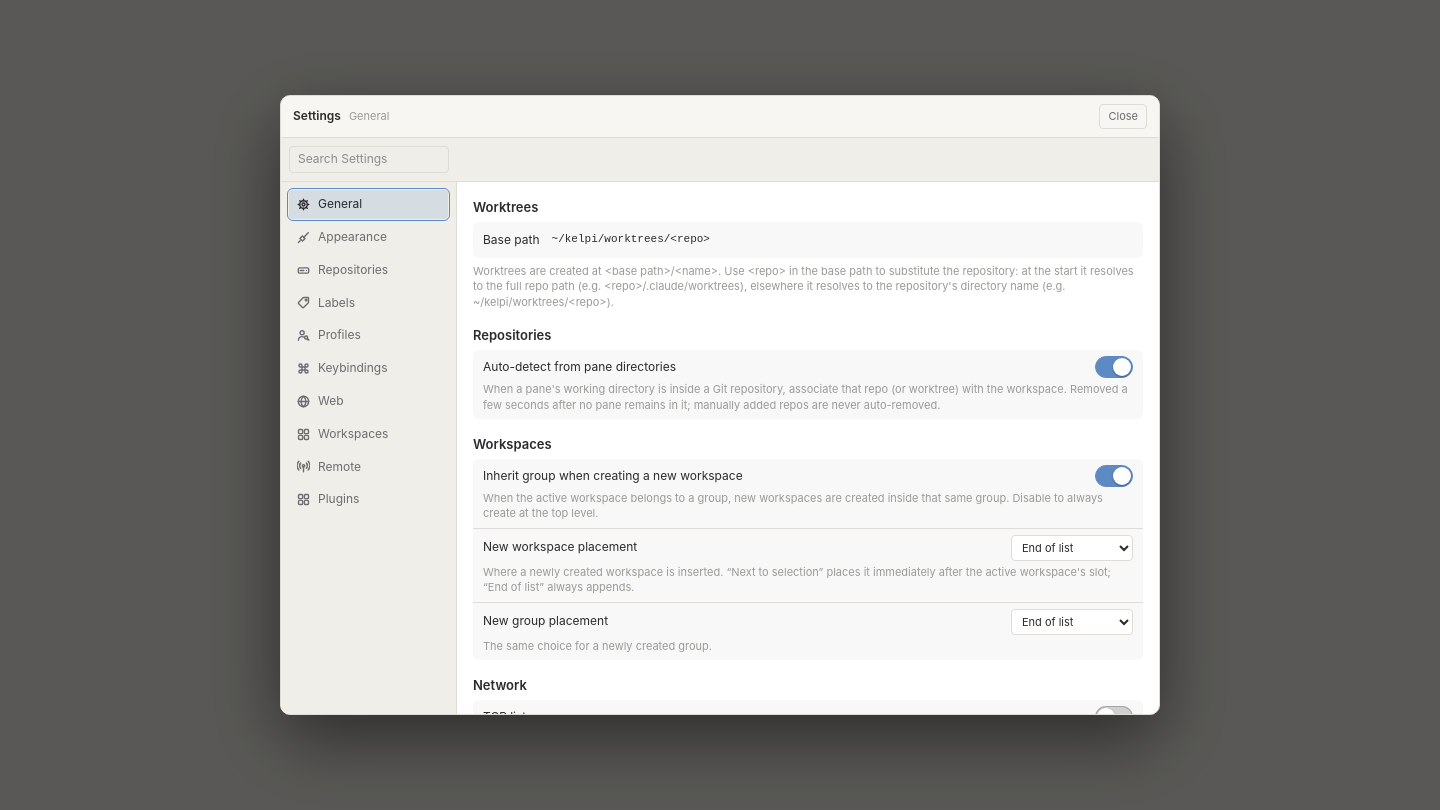
Test case: Settings search in the host › finds the real error when the daemon reports a failed TCP listener
Type "TCP listener failed to bind" into the search field with test id "settings-search" at (369, 160), box [289,146,449,173]
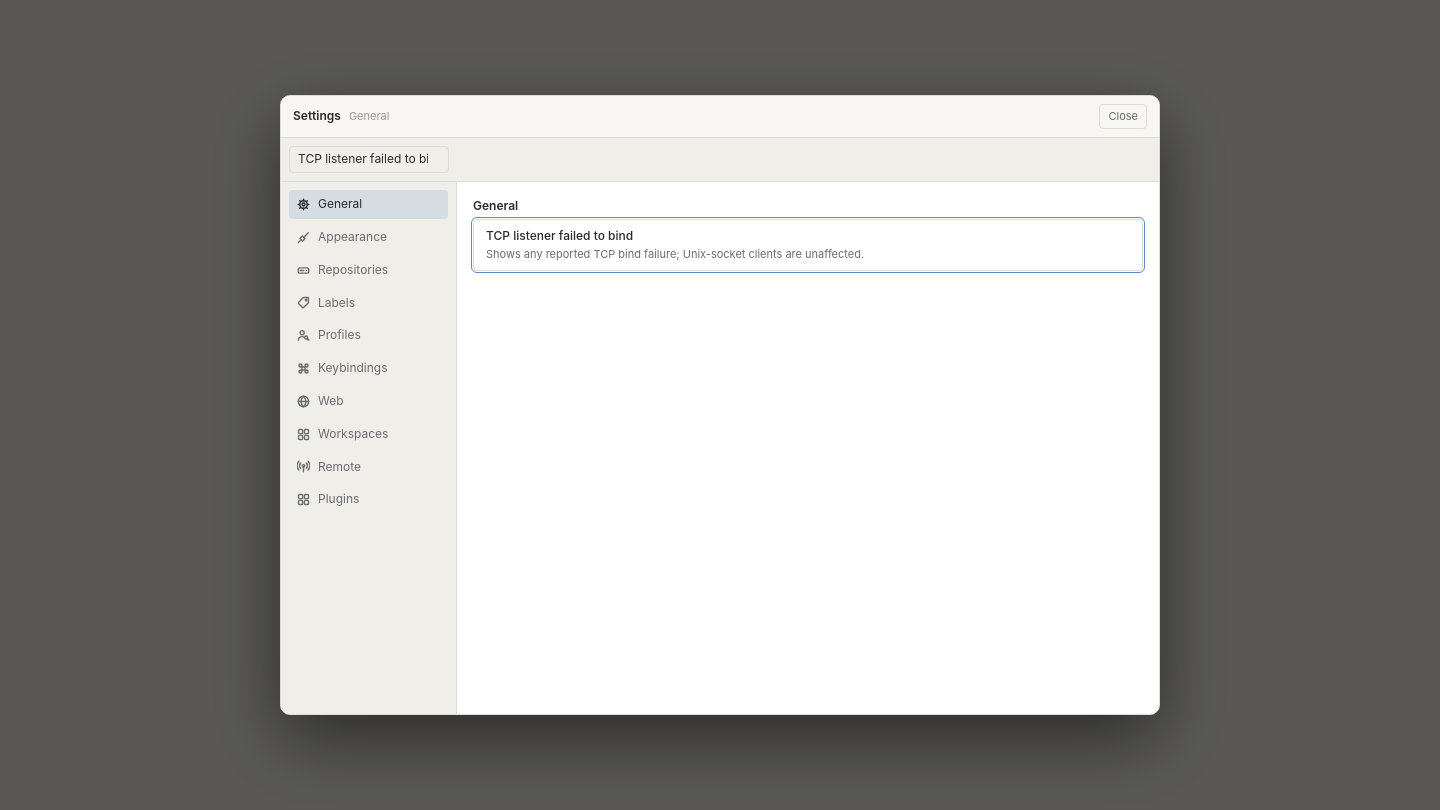
Click the button that starts with "TCP listener failed to bind" at (808, 245), box [473,219,1143,271]
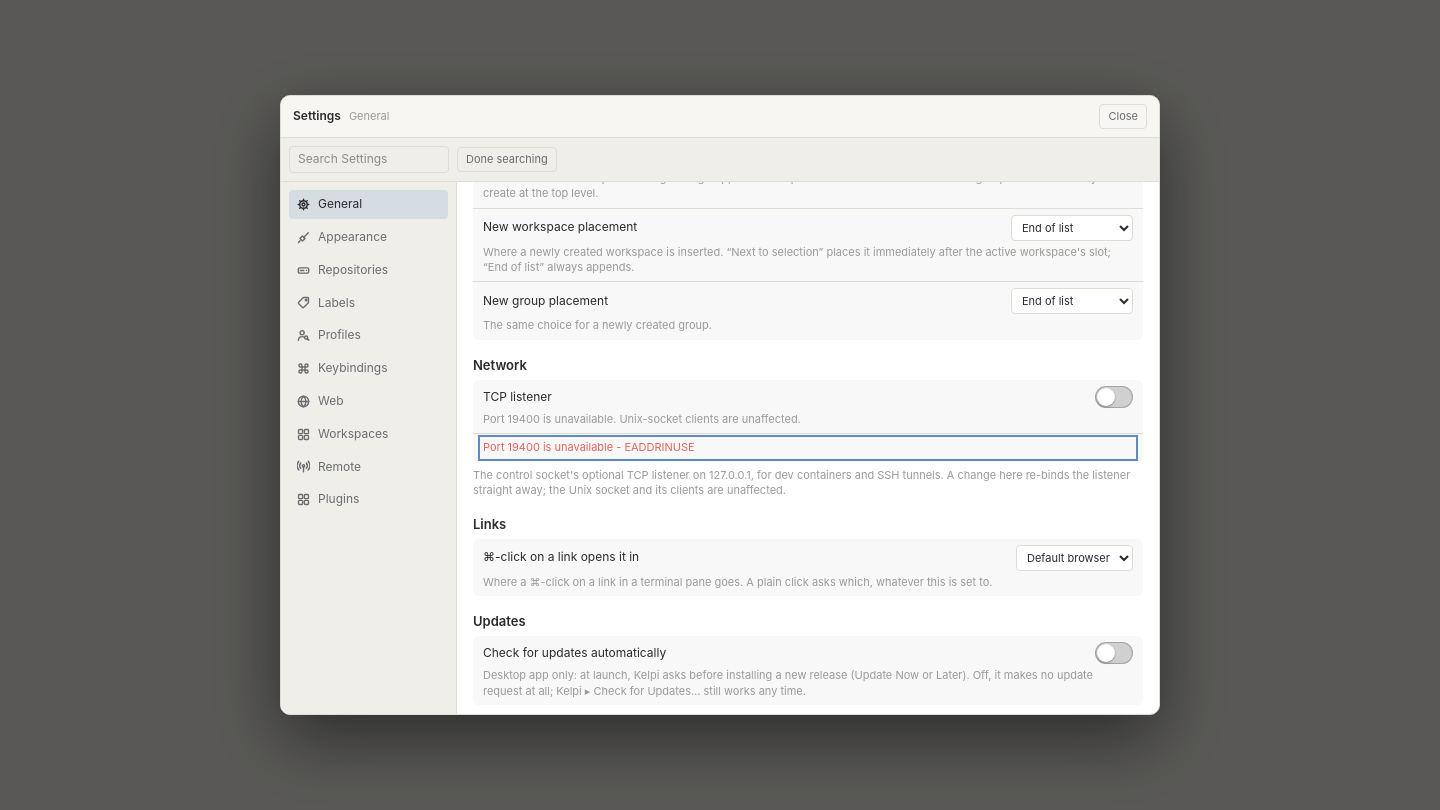
Expected: the text with test id "tcp-bind-error" shows "EADDRINUSE", [483,440,695,454]
